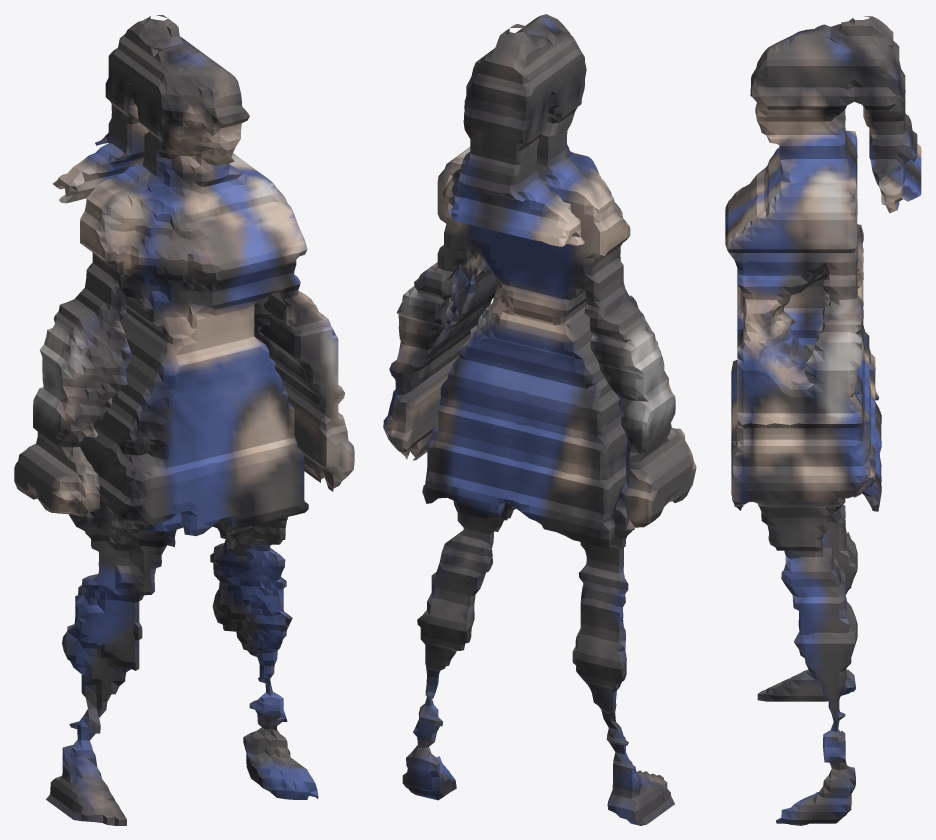
Rendered from sera-v10.glb.
The picture shows the model from 3 angles, left to right: view 1: azimuth 30°, elevation 25°; view 2: azimuth 150°, elevation 25°; view 3: azimuth 270°, elevation 25°; orthographic projection. The views are drawn at different scales.
Parts seen in each view (by area): view 1: geometry_0; view 2: geometry_0; view 3: geometry_0.
Part boxes in pixels (x1,y1,x2,y2): geometry_0: (14, 15, 354, 825); geometry_0: (383, 14, 696, 825); geometry_0: (725, 16, 921, 825).
Size of the model in its own units: 0.6022 by 1.67 by 0.3915.
